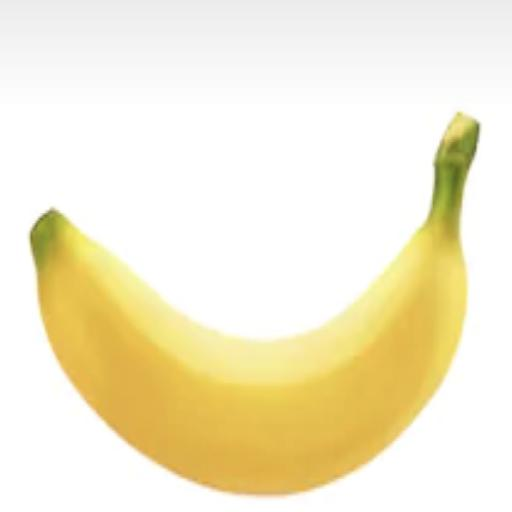banana: (32, 114, 478, 493)
